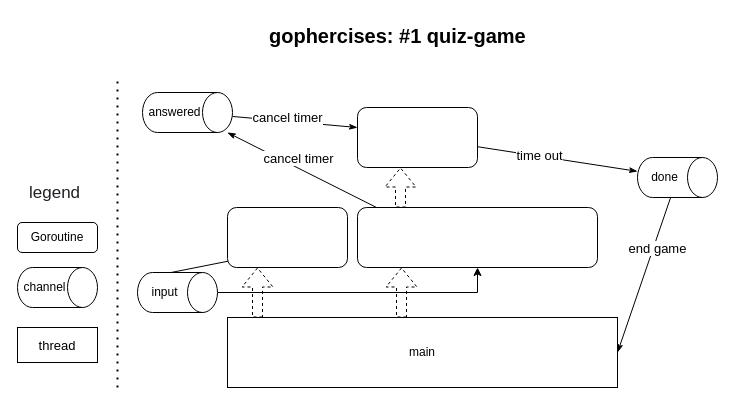
The diagram is 735 pixels wide and 406 high, and some of its shapes have lost their labels. Each missing label, with the centre of its shape:
eachQuestion: (x=477, y=237)
getInput: (x=287, y=237)
timer: (x=417, y=137)
